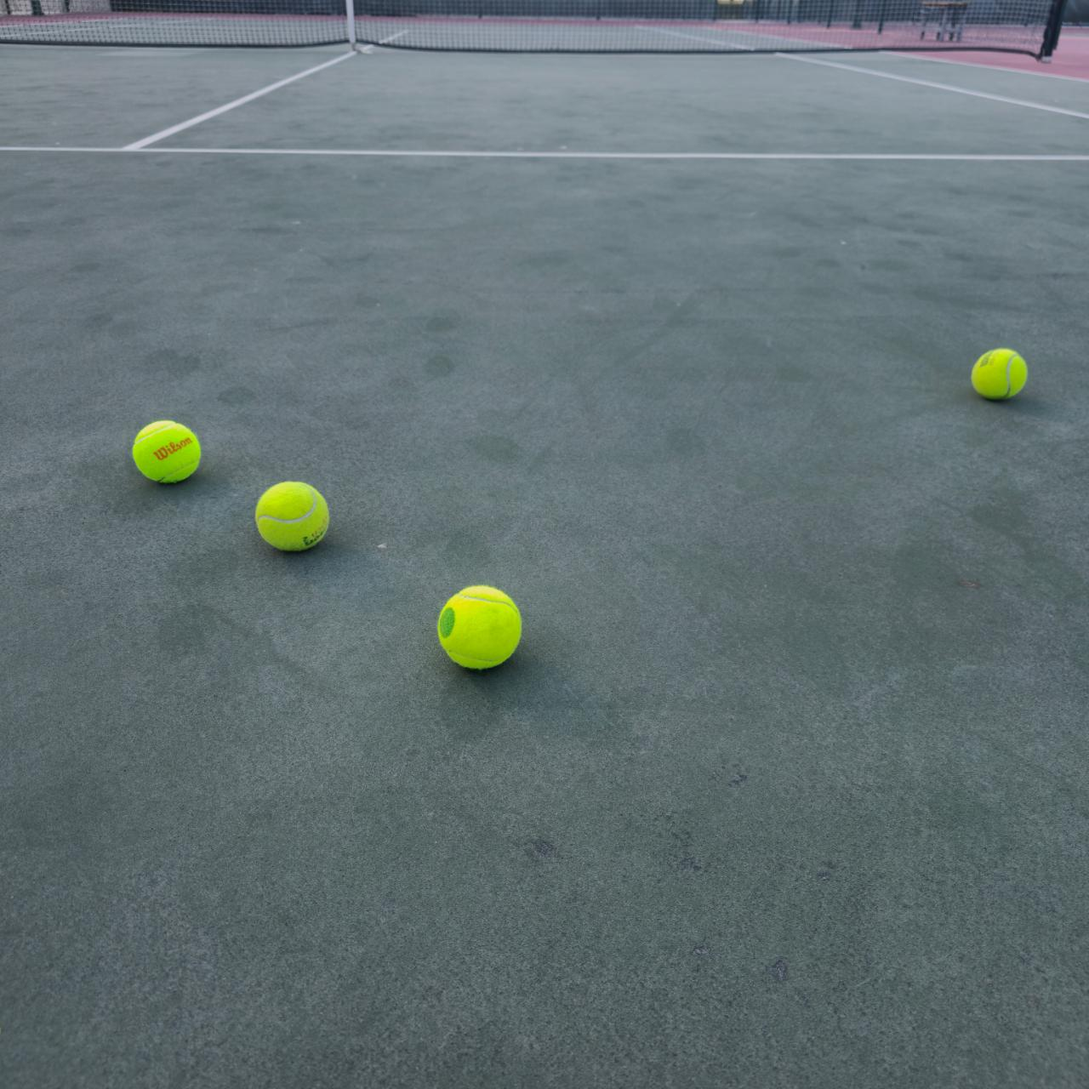tennis-ball: (435, 581, 523, 671), (253, 477, 330, 552), (129, 417, 202, 484), (969, 345, 1029, 401)
